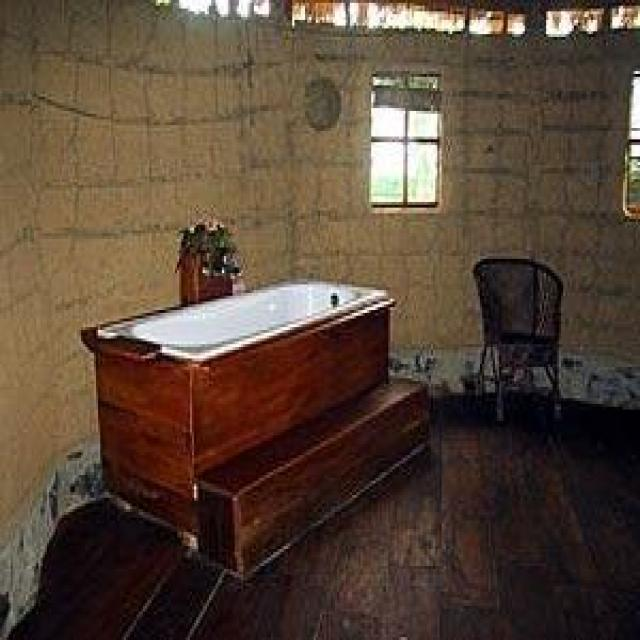chair: (464, 240, 592, 412)
